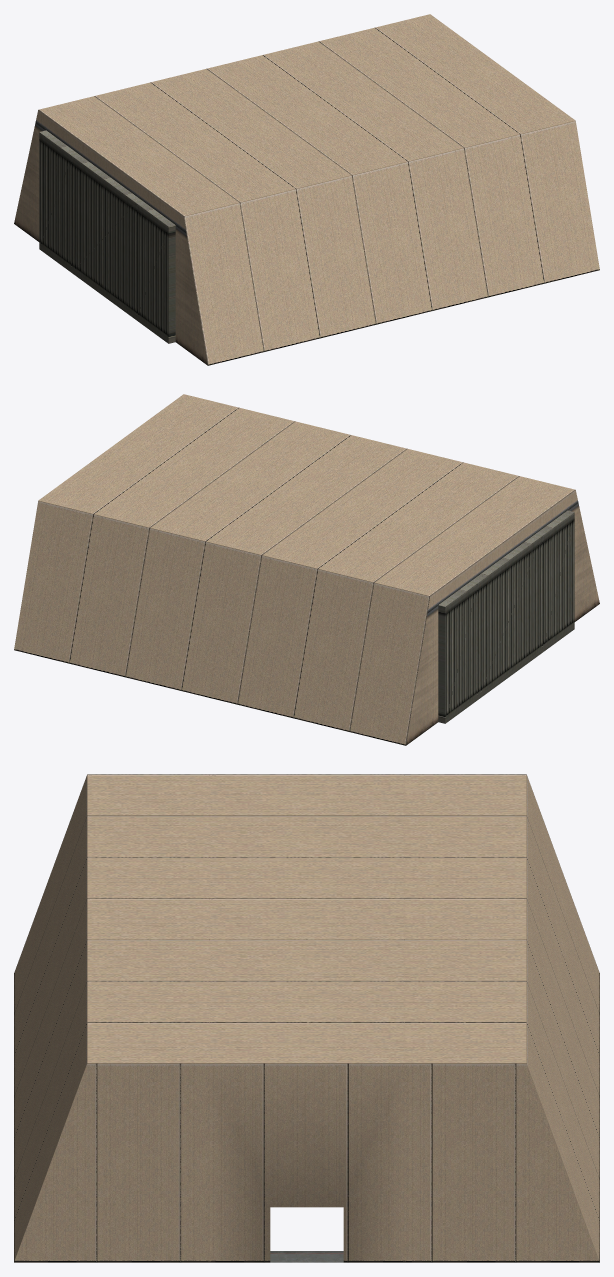
The model's file is HangerOut.glb.
The picture shows the model from 3 angles, top to bottom: view 1: azimuth 30°, elevation 25°; view 2: azimuth 150°, elevation 25°; view 3: azimuth 270°, elevation 25°; orthographic projection. The views are drawn at different scales.
Parts seen in each view (by area): view 1: HANGEROUT; view 2: HANGEROUT; view 3: HANGEROUT.
Boxes of the visible parts, x1,y1,x2,y2 form: HANGEROUT: (14,14,599,365); HANGEROUT: (14,394,599,745); HANGEROUT: (14,774,599,1262).
Bounding box in the file's own units: 28.5 × 9 × 24.
Materials: 5 (5 with a texture image).
